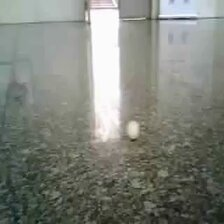w: (126, 119, 142, 141)
